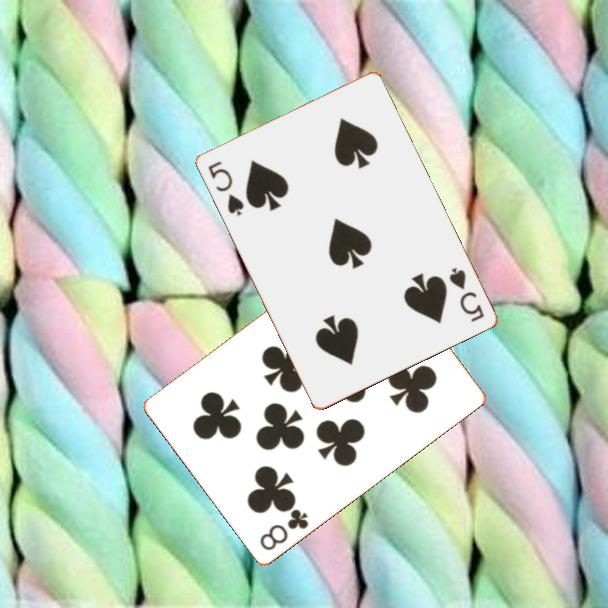c08: (256, 505, 311, 553)
s05: (204, 157, 246, 219), (445, 264, 487, 325)
